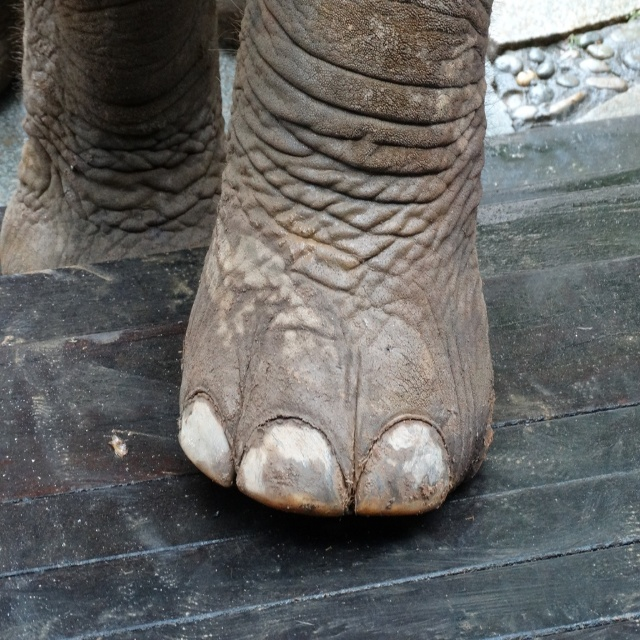Elephant: (3, 0, 500, 513)
